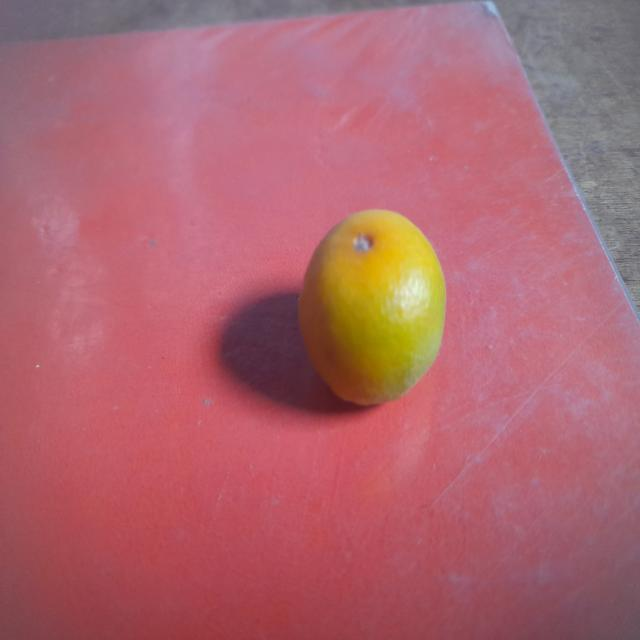greening: (305, 203, 452, 408)
